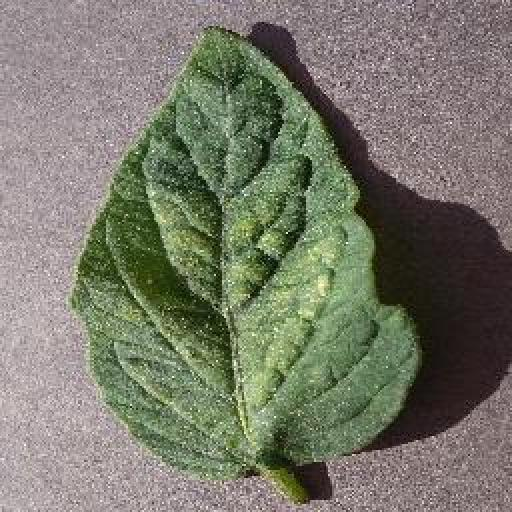Spider Mites: (69, 23, 423, 476)
